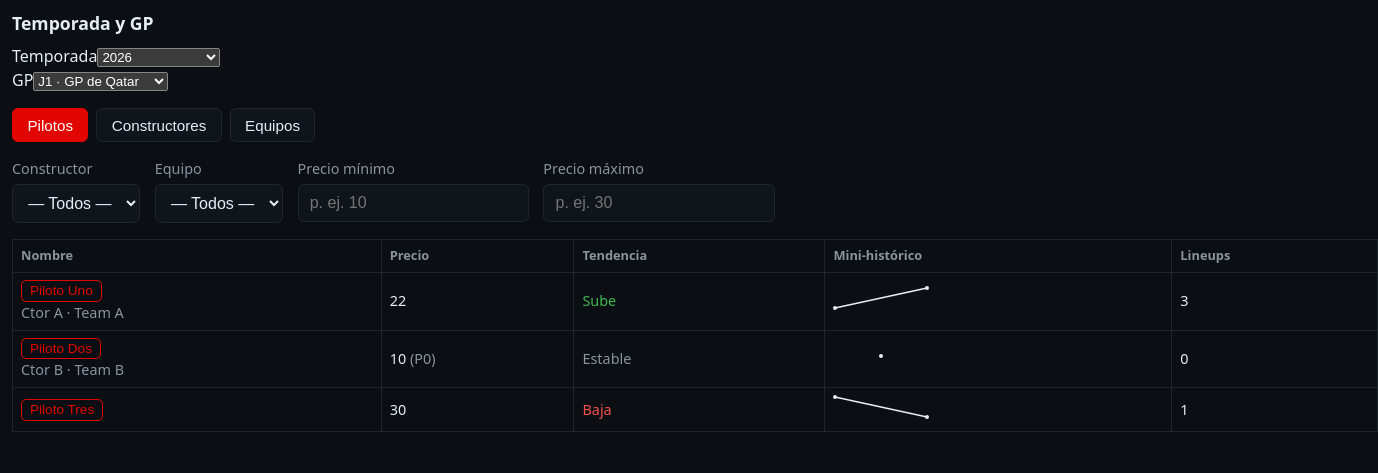
Test: MercadoPage (US-14) › precio mínimo superior al máximo: error local y NO envía el filtro
Type "10000" into the field labelled "Precio mínimo". click: (413, 203)
box: [298,184,529,222]
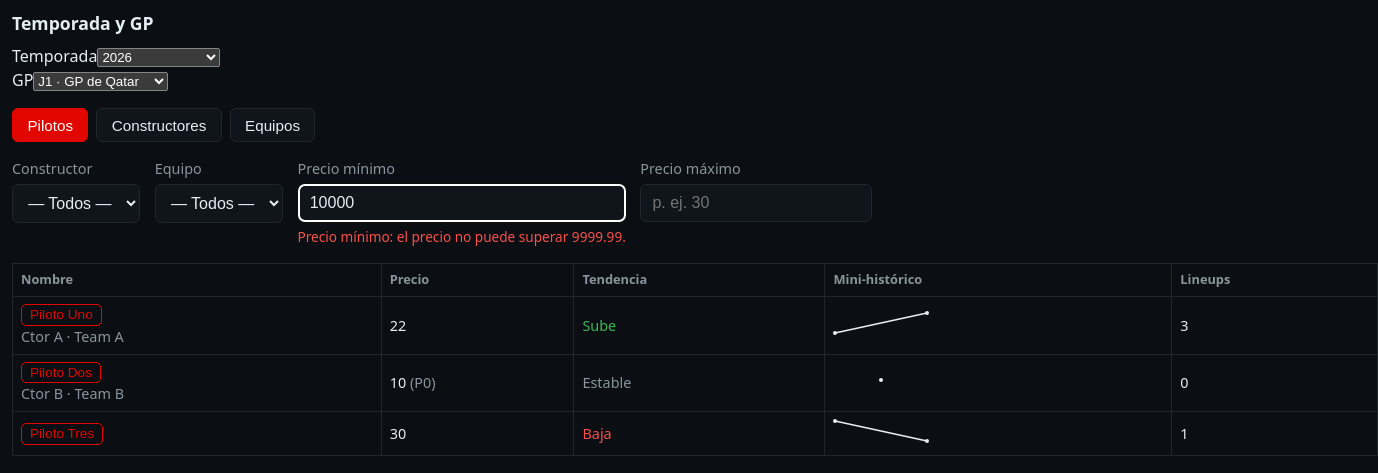
Result: the text "Precio mínimo: el precio no puede superar 9999.99." is shown at [298,227,626,247]
